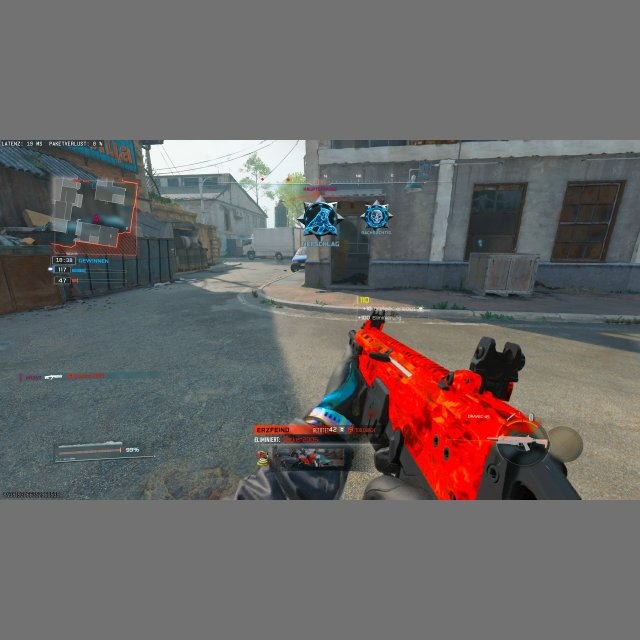player: (68, 275, 80, 299), (274, 251, 283, 263)
